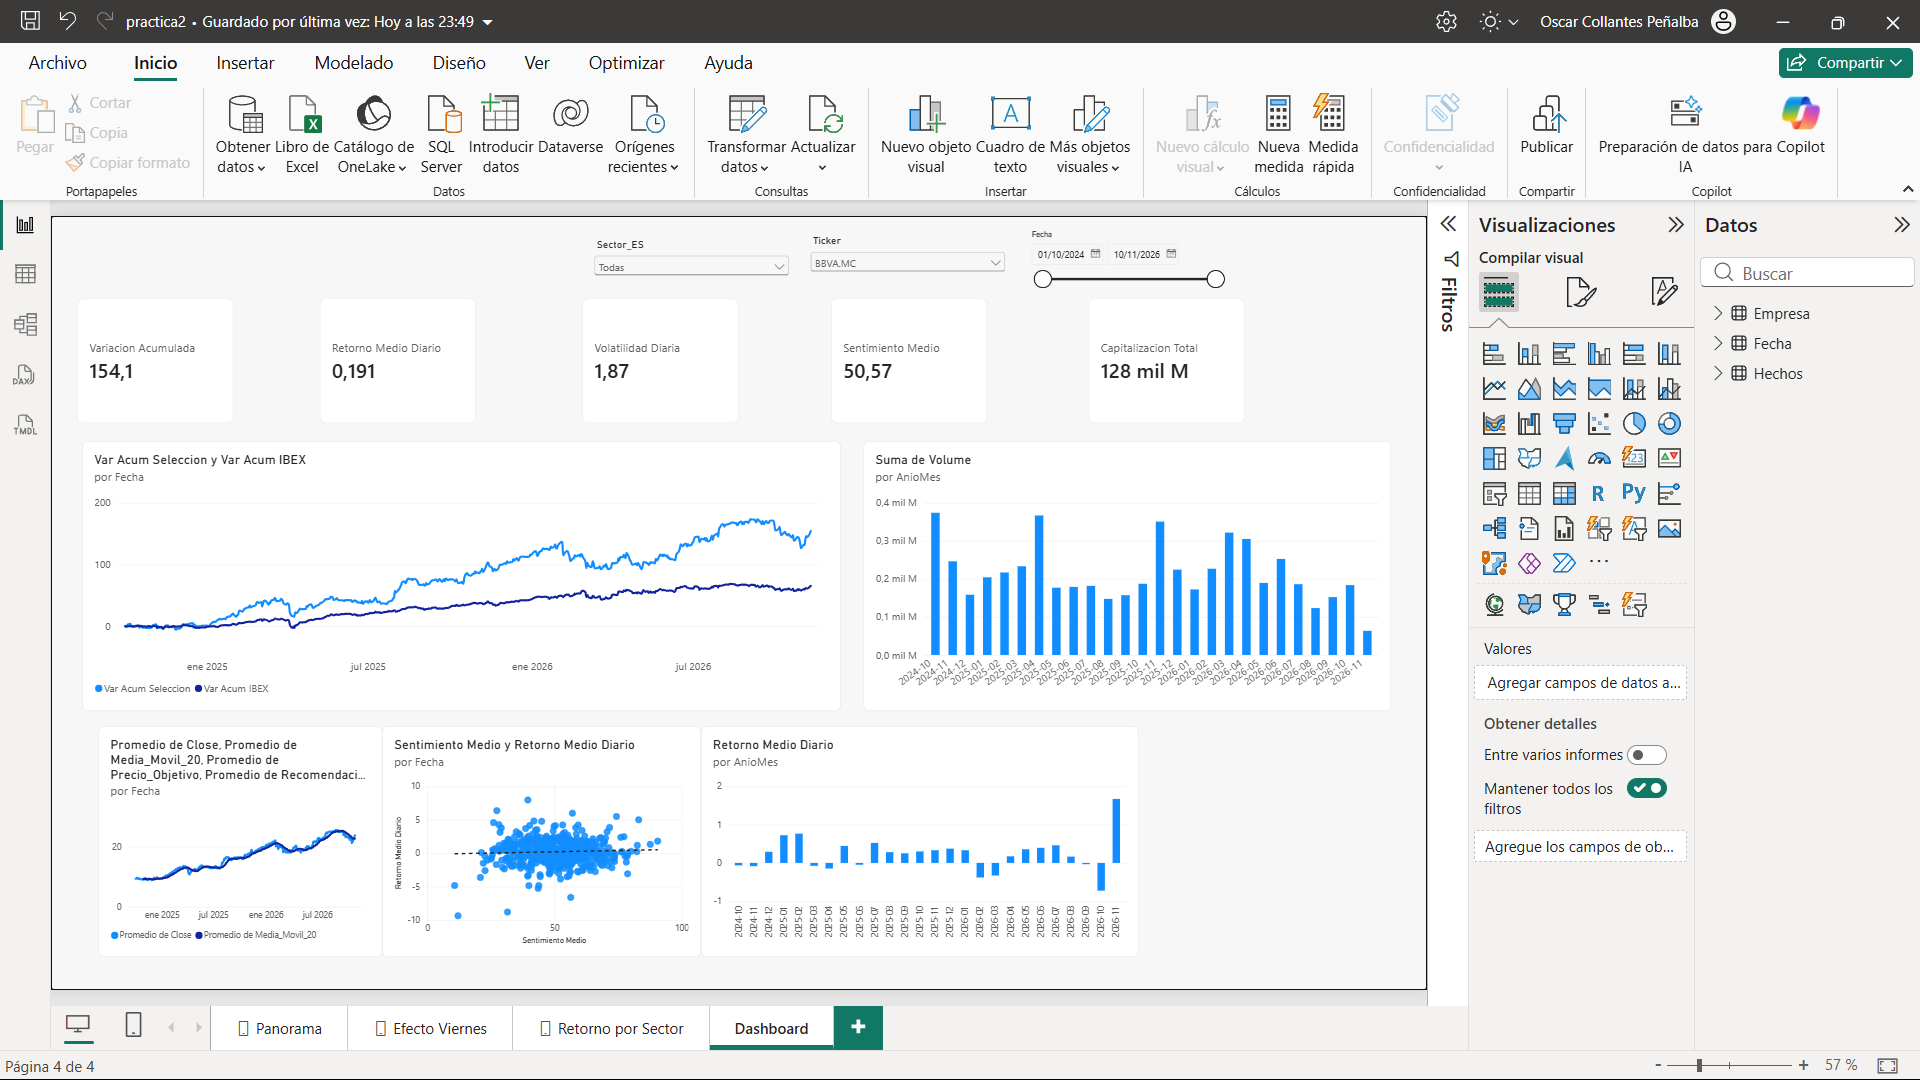

The page's visual inventory and layout, read from the dashboard file:
{"tool":"powerbi","page":{"name":"Dashboard","canvas":[1920,1080],"ordinal":3},"visuals":[{"type":"slicer","fields":{"Values":["Empresa.Sector_ES"]},"box":[753.5,31.4,280.8,68],"z":0},{"type":"slicer","fields":{"Values":["Empresa.Ticker"]},"box":[1055.2,26.2,280.8,80.2],"z":1000},{"type":"slicer","fields":{"Values":["Fecha.Fecha"]},"box":[1360.5,19.2,280.8,95.9],"z":2000},{"type":"cardVisual","fields":{"Data":["Hechos.Variacion Acumulada"]},"box":[36.6,115.1,218,174.4],"z":3000},{"type":"cardVisual","fields":{"Data":["Hechos.Retorno Medio Diario"]},"box":[375,115.1,218,174.4],"z":4000},{"type":"cardVisual","fields":{"Data":["Hechos.Volatilidad Diaria"]},"box":[741.3,115.1,218,174.4],"z":5000},{"type":"cardVisual","fields":{"Data":["Hechos.Sentimiento Medio"]},"box":[1088.4,115.1,218,174.4],"z":6000},{"type":"cardVisual","fields":{"Data":["Hechos.Capitalizacion Total"]},"box":[1447.7,115.1,218,174.4],"z":7000},{"type":"lineChart","fields":{"Category":["Fecha.Fecha"],"Y":["Hechos.Var Acum Seleccion","Hechos.Var Acum IBEX"]},"box":[43.6,314,1058.7,376.7],"z":8000},{"type":"clusteredColumnChart","fields":{"Category":["Fecha.AnioMes"],"Y":["Sum(Hechos.Volume)"]},"box":[1133.7,314,736,376.7],"z":9000},{"type":"lineChart","fields":{"Category":["Fecha.Fecha"],"Y":["Avg(Hechos.Close)","Avg(Hechos.Media_Movil_20)"]},"box":[66.3,711.6,395.9,322.7],"z":10000},{"type":"scatterChart","fields":{"Category":["Fecha.Fecha"],"X":["Hechos.Sentimiento Medio"],"Y":["Hechos.Retorno Medio Diario"]},"box":[462.2,711.6,444.8,322.7],"z":11000},{"type":"clusteredColumnChart","fields":{"Category":["Fecha.AnioMes"],"Y":["Hechos.Retorno Medio Diario"]},"box":[907,711.6,610.5,322.7],"z":12000},{"type":"donutChart","fields":{"Category":["Fecha.Trimestre"],"Y":["Sum(Hechos.Dividends)"]},"box":[1517.4,711.6,385.5,322.7],"z":13000},{"type":"cardVisual","fields":{"Data":["Hechos.Titulo Dashboard"]},"box":[66.3,19.2,556.4,75],"z":13001}]}

Visuals, with their boxes on the page's 1920x1080 design canvas (x1, y1, x2, y2). These are canvas units, not pixel positions in the 1920x1080 screenshot, which may show the page scaled, cropped or inside an application window:
slicer - Empresa.Sector_ES: [754,31,1034,99]
slicer - Empresa.Ticker: [1055,26,1336,106]
slicer - Fecha.Fecha: [1360,19,1641,115]
cardVisual - Hechos.Variacion Acumulada: [37,115,255,290]
cardVisual - Hechos.Retorno Medio Diario: [375,115,593,290]
cardVisual - Hechos.Volatilidad Diaria: [741,115,959,290]
cardVisual - Hechos.Sentimiento Medio: [1088,115,1306,290]
cardVisual - Hechos.Capitalizacion Total: [1448,115,1666,290]
lineChart - Fecha.Fecha x Hechos.Var Acum Seleccion: [44,314,1102,691]
clusteredColumnChart - Fecha.AnioMes x Sum(Hechos.Volume): [1134,314,1870,691]
lineChart - Fecha.Fecha x Avg(Hechos.Close): [66,712,462,1034]
scatterChart - Fecha.Fecha x Hechos.Sentimiento Medio: [462,712,907,1034]
clusteredColumnChart - Fecha.AnioMes x Hechos.Retorno Medio Diario: [907,712,1518,1034]
donutChart - Fecha.Trimestre x Sum(Hechos.Dividends): [1517,712,1903,1034]
cardVisual - Hechos.Titulo Dashboard: [66,19,623,94]
